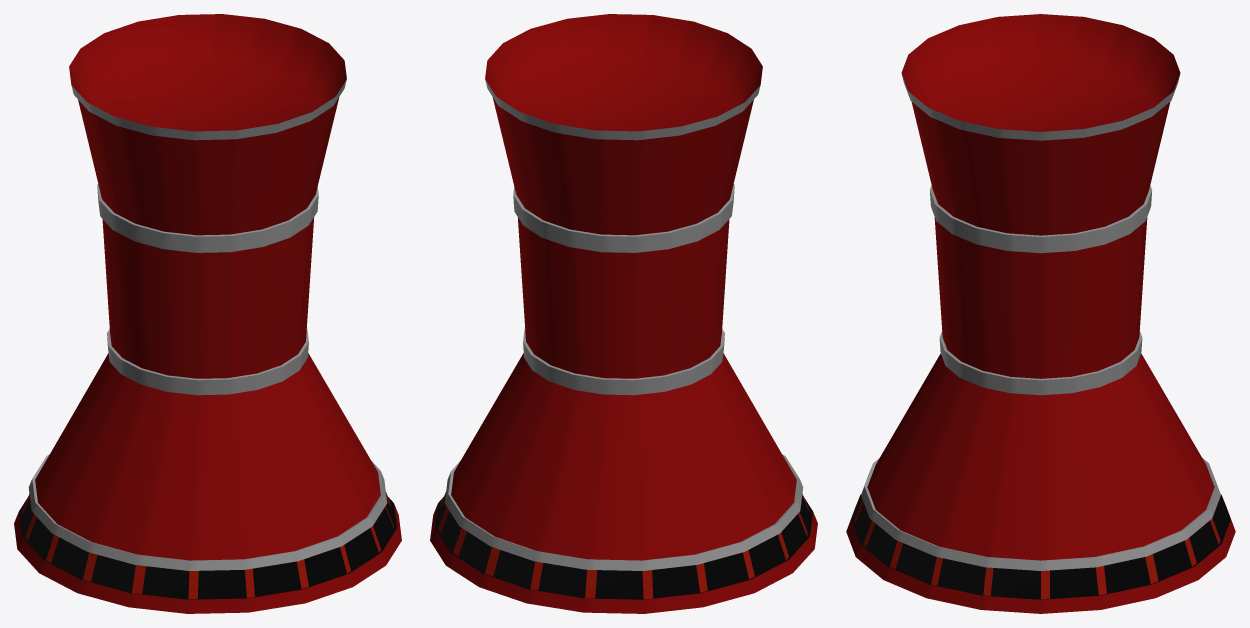
The model's file is Red Radio Active.fbx.
The picture shows the model from 3 angles, left to right: view 1: azimuth 30°, elevation 25°; view 2: azimuth 150°, elevation 25°; view 3: azimuth 270°, elevation 25°; orthographic projection.
Visible parts, largest first — view 1: pasted__pCylinder1; view 2: pasted__pCylinder1; view 3: pasted__pCylinder1.
Part boxes in pixels (box(x1,y1,x2,y2)): pasted__pCylinder1: box(14, 14, 401, 613); pasted__pCylinder1: box(430, 14, 817, 613); pasted__pCylinder1: box(846, 14, 1235, 613).
Bounding box in the file's own units: 25.63 × 33.36 × 25.63.
